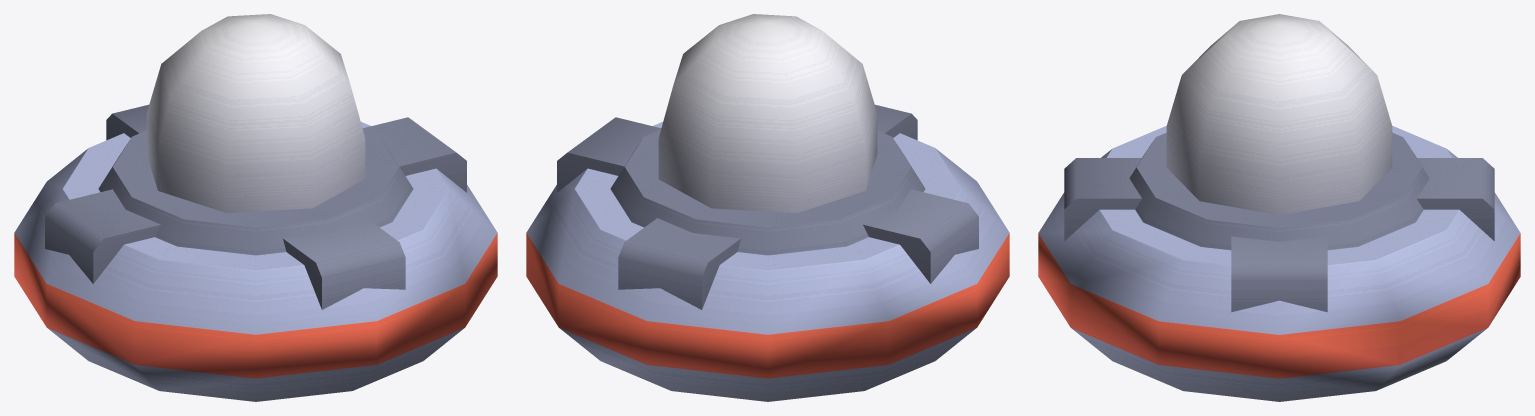
Rendered from enemy-ufo-a.glb.
3 renders of one model, left to right at view 1: azimuth 30°, elevation 25°; view 2: azimuth 150°, elevation 25°; view 3: azimuth 270°, elevation 25°, orthographic.
Visible parts, largest first — view 1: enemy-ufo-a; view 2: enemy-ufo-a; view 3: enemy-ufo-a.
Part boxes in pixels (x1=…): enemy-ufo-a: x1=14, y1=14, x2=497, y2=401; enemy-ufo-a: x1=526, y1=14, x2=1009, y2=401; enemy-ufo-a: x1=1038, y1=14, x2=1520, y2=401.
Bounding box in the file's own units: 1 × 0.6779 × 1.
1 material, 1 textured.
